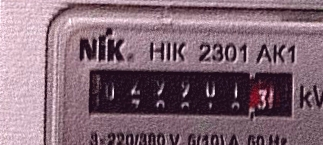0: (203, 75, 218, 100), (102, 79, 117, 101)
1: (230, 75, 242, 100)
2: (128, 74, 143, 97)
3: (255, 88, 270, 111)
9: (179, 76, 191, 100), (154, 75, 166, 96)
screen: (80, 62, 303, 128)
